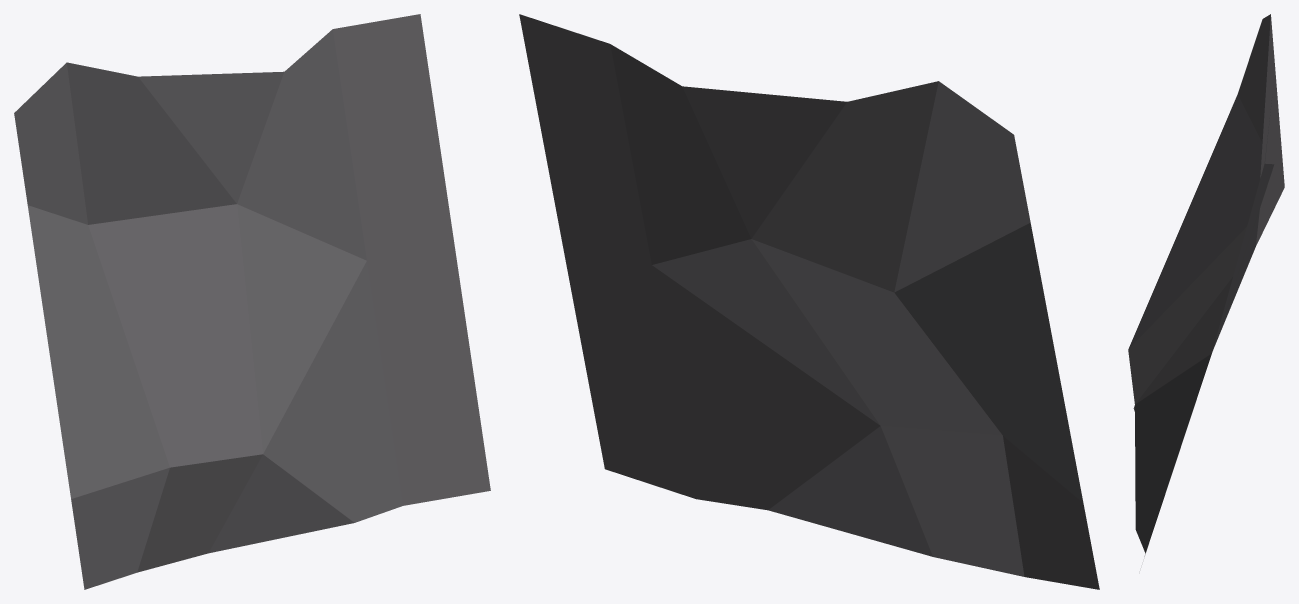
Rendered from mesh_nature_cliff_bottom_01.fbx.
The picture shows the model from 3 angles, left to right: view 1: azimuth 30°, elevation 25°; view 2: azimuth 150°, elevation 25°; view 3: azimuth 270°, elevation 25°; orthographic projection. The views are drawn at different scales.
Visible parts, largest first — view 1: mesh_nature_cliff_bottom_01; view 2: mesh_nature_cliff_bottom_01; view 3: mesh_nature_cliff_bottom_01.
Boxes of the visible parts, x1,y1,x2,y2 form: mesh_nature_cliff_bottom_01: [14, 14, 490, 589]; mesh_nature_cliff_bottom_01: [519, 14, 1099, 589]; mesh_nature_cliff_bottom_01: [1128, 14, 1284, 556].
Bounding box in the file's own units: 200 × 216 × 72.92.
